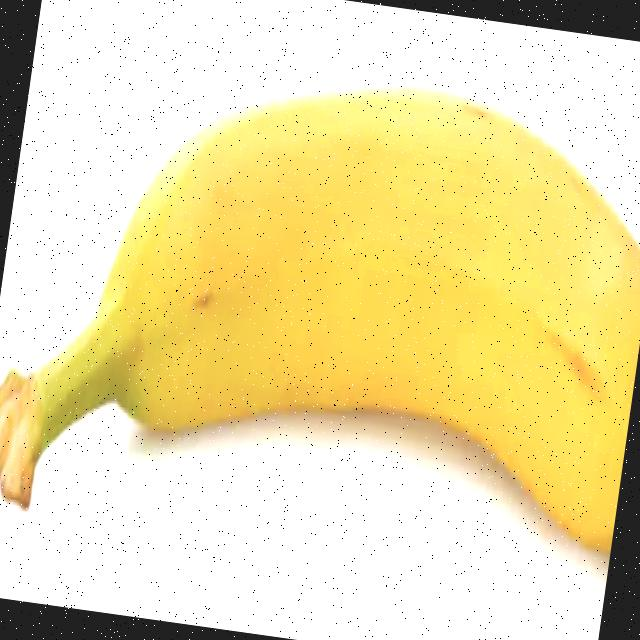Ripe: (0, 2, 640, 617)
